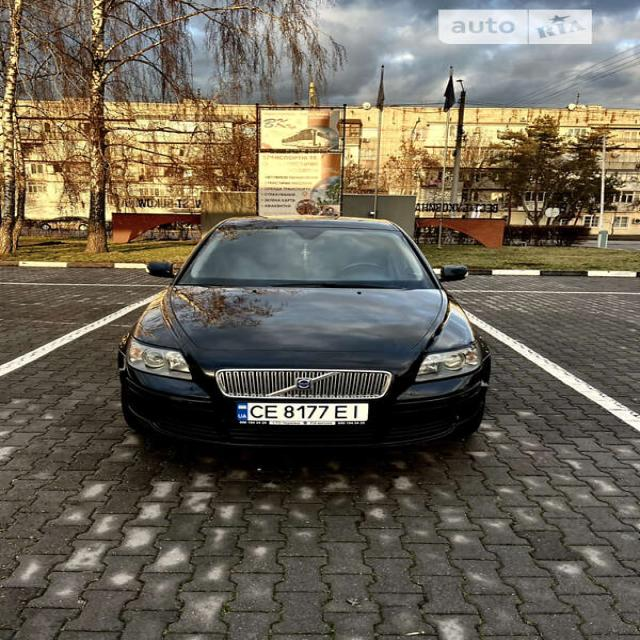plate: (231, 390, 377, 434)
